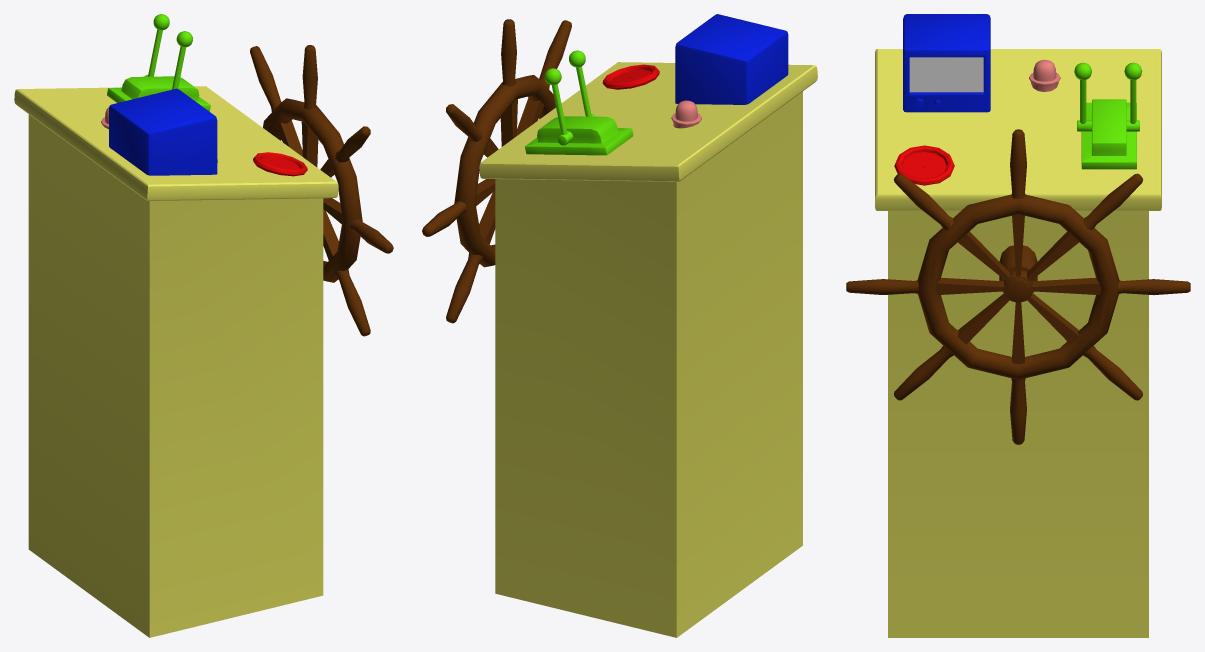
Rendered from BoatCAbinUnwrapped.fbx.
The picture shows the model from 3 angles, left to right: view 1: azimuth 30°, elevation 25°; view 2: azimuth 150°, elevation 25°; view 3: azimuth 270°, elevation 25°; orthographic projection. The views are drawn at different scales.
Visible parts, largest first — view 1: Cabin, Radar, Torus.001, Circle, Cube, Motor Controller, Frame; view 2: Cabin, Radar, Torus.001, Circle, Motor Controller, Cube, Frame; view 3: Cabin, Torus.001, Circle, Cube, Radar, Motor Controller, Screen, Cylinder, Frame, Background.
Part boxes in pixels (x1=…): Cabin: x1=14, y1=86, x2=338, y2=637; Radar: x1=109, y1=88, x2=217, y2=175; Torus.001: x1=263, y1=98, x2=362, y2=282; Circle: x1=250, y1=45, x2=393, y2=336; Cube: x1=276, y1=120, x2=342, y2=260; Motor Controller: x1=107, y1=76, x2=210, y2=111; Frame: x1=253, y1=152, x2=307, y2=176; Cabin: x1=479, y1=62, x2=817, y2=637; Radar: x1=675, y1=14, x2=788, y2=104; Torus.001: x1=454, y1=75, x2=555, y2=267; Circle: x1=422, y1=19, x2=571, y2=323; Motor Controller: x1=525, y1=116, x2=633, y2=155; Cube: x1=475, y1=97, x2=544, y2=243; Frame: x1=602, y1=64, x2=659, y2=89; Cabin: x1=875, y1=49, x2=1161, y2=637; Torus.001: x1=917, y1=194, x2=1119, y2=379; Circle: x1=846, y1=129, x2=1190, y2=444; Cube: x1=935, y1=214, x2=1101, y2=364; Radar: x1=903, y1=14, x2=990, y2=112; Motor Controller: x1=1081, y1=99, x2=1136, y2=169; Screen: x1=909, y1=57, x2=983, y2=92; Cylinder: x1=999, y1=245, x2=1037, y2=302; Frame: x1=894, y1=145, x2=954, y2=185; Background: x1=902, y1=152, x2=946, y2=178.
Size of the model in its own units: 91.55 by 187 by 106.
